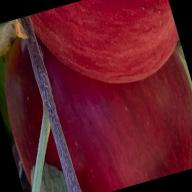Apples: (0, 0, 192, 192), (29, 0, 187, 106)
